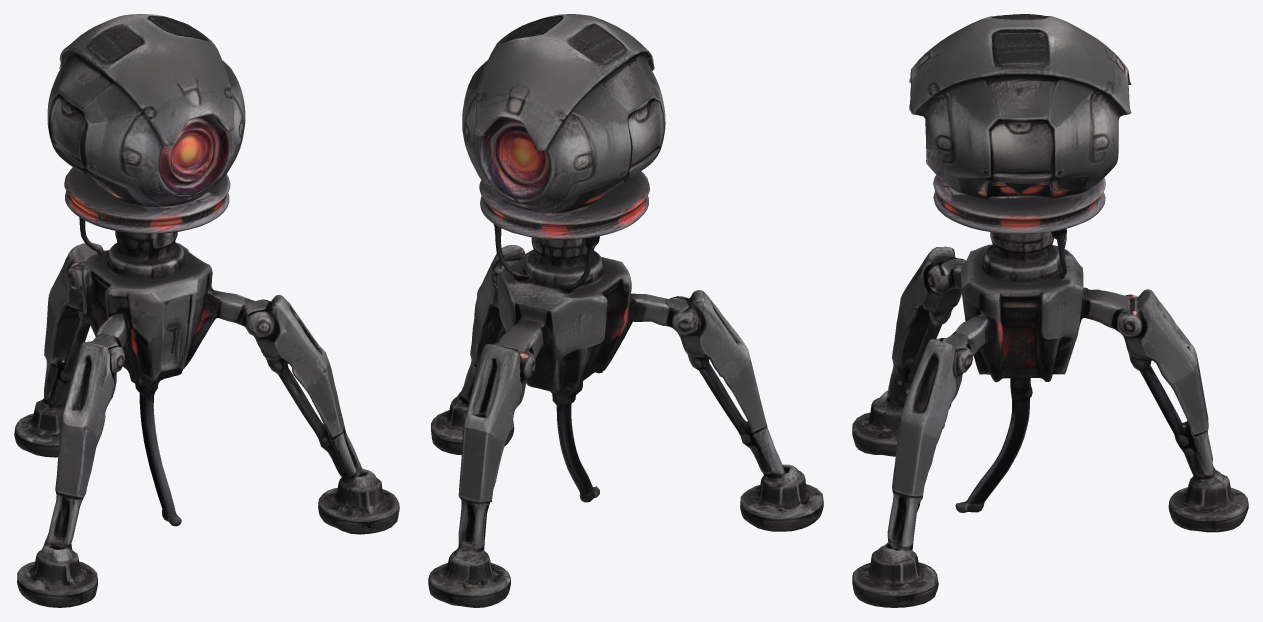
The model's file is AiSensor_base_basic_pbr.glb.
3 views of the same model, side by side, from view 1: azimuth 30°, elevation 25°; view 2: azimuth 150°, elevation 25°; view 3: azimuth 270°, elevation 25° (orthographic). The views are drawn at different scales.
Visible parts, largest first — view 1: model; view 2: model; view 3: model.
Boxes of the visible parts, x1=… form: model: x1=14, y1=14, x2=399, y2=607; model: x1=428, y1=14, x2=823, y2=607; model: x1=852, y1=14, x2=1248, y2=607.
Size of the model in its own units: 1.52 by 1.9 by 1.38.
Materials: 1 (1 with a texture image).
